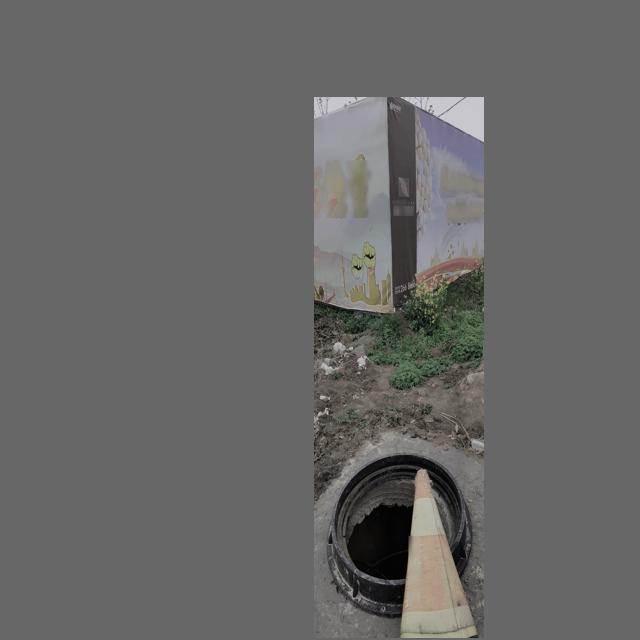lose: (328, 452, 472, 621)
